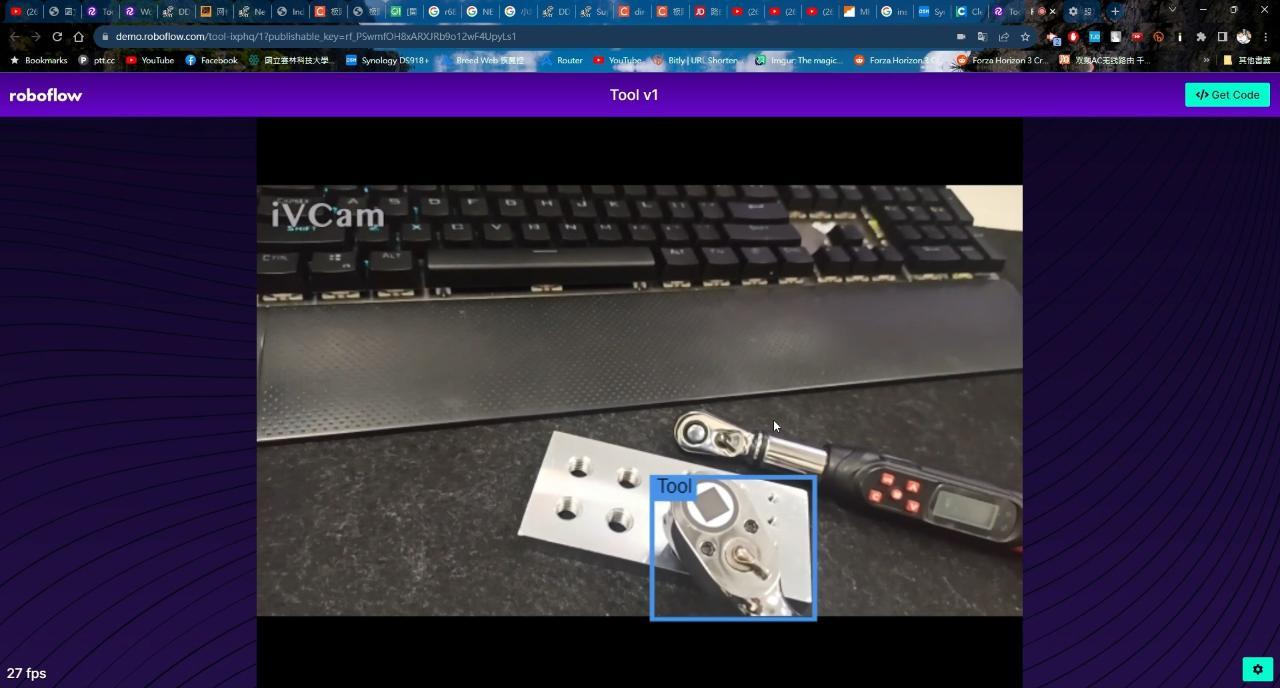Tool: (676, 411, 752, 461)
hole: (602, 504, 632, 541), (618, 459, 644, 496), (549, 490, 578, 521), (569, 455, 592, 483)
